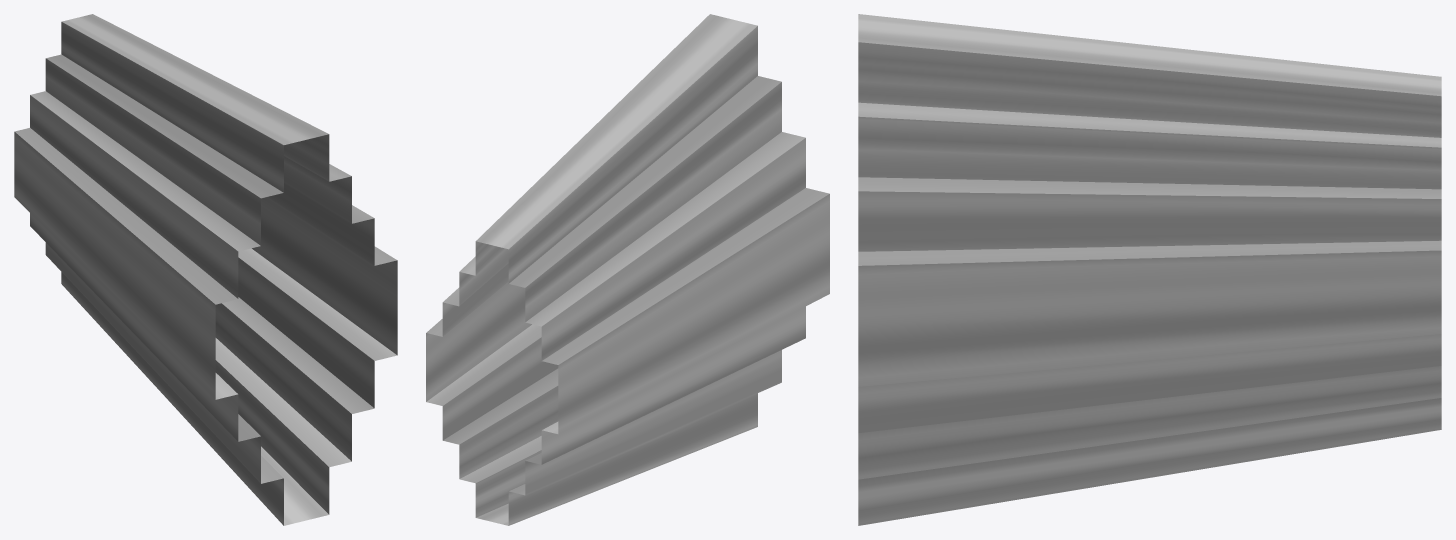
Rendered from flare_ring.obj.
The picture shows the model from 3 angles, left to right: view 1: azimuth 30°, elevation 25°; view 2: azimuth 150°, elevation 25°; view 3: azimuth 270°, elevation 25°; orthographic projection. The views are drawn at different scales.
Visible parts, largest first — view 1: Plane.001; view 2: Plane.001; view 3: Plane.001.
Boxes of the visible parts, <box> form: Plane.001: <box>14,14,397,525</box>; Plane.001: <box>426,14,829,525</box>; Plane.001: <box>858,14,1441,525</box>.
Size of the model in its own units: 1.45 by 2.9 by 3.17.
